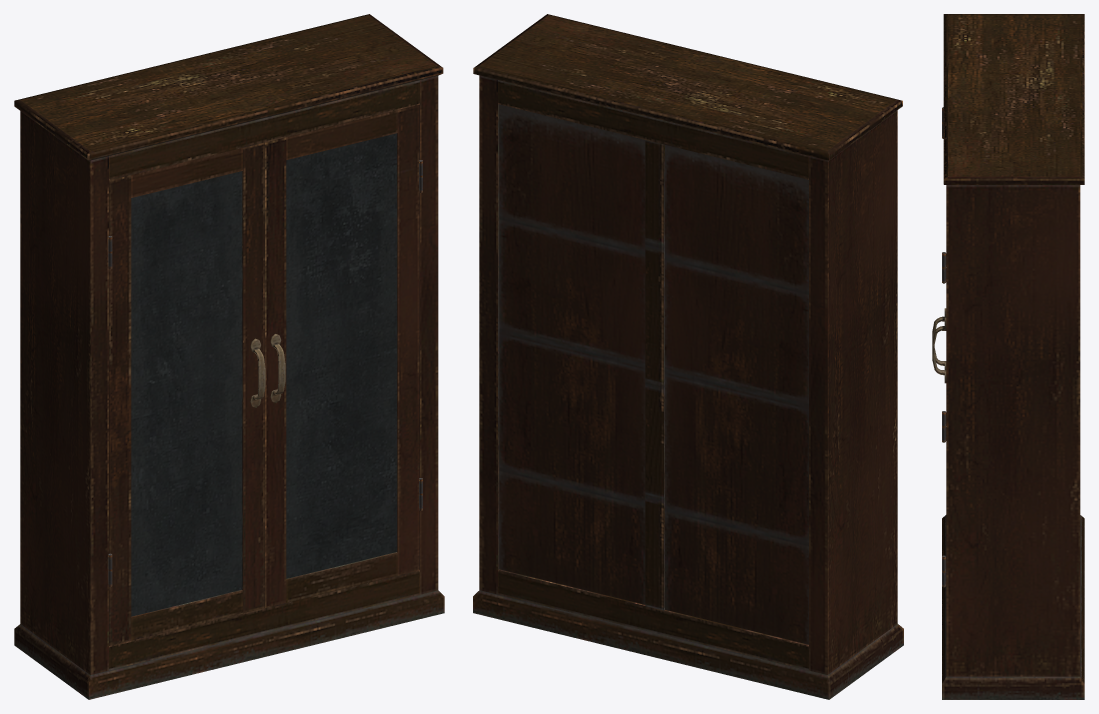
File: Closet.fbx
3 renders of one model, left to right at view 1: azimuth 30°, elevation 25°; view 2: azimuth 150°, elevation 25°; view 3: azimuth 270°, elevation 25°, orthographic. The views are drawn at different scales.
Parts seen in each view (by area): view 1: LODGroup_1_MainMesh_3_SubMesh_1, LODGroup_1_MainMesh_1_SubMesh_2, LODGroup_1_MainMesh_2_SubMesh_2, LODGroup_1_MainMesh_2_SubMesh_1, LODGroup_1_MainMesh_1_SubMesh_1; view 2: LODGroup_1_MainMesh_3_SubMesh_1; view 3: LODGroup_1_MainMesh_3_SubMesh_1, LODGroup_1_MainMesh_2_SubMesh_1.
Part boxes in pixels (x1,y1,x2,y2): LODGroup_1_MainMesh_3_SubMesh_1: (14,14,444,699); LODGroup_1_MainMesh_1_SubMesh_2: (131,171,242,616); LODGroup_1_MainMesh_2_SubMesh_2: (286,133,396,578); LODGroup_1_MainMesh_2_SubMesh_1: (264,104,419,607); LODGroup_1_MainMesh_1_SubMesh_1: (109,142,265,645); LODGroup_1_MainMesh_3_SubMesh_1: (473,14,903,699); LODGroup_1_MainMesh_3_SubMesh_1: (942,14,1084,699); LODGroup_1_MainMesh_2_SubMesh_1: (932,268,946,585).
Bounding box in the file's own units: 102 × 150 × 39.77.
